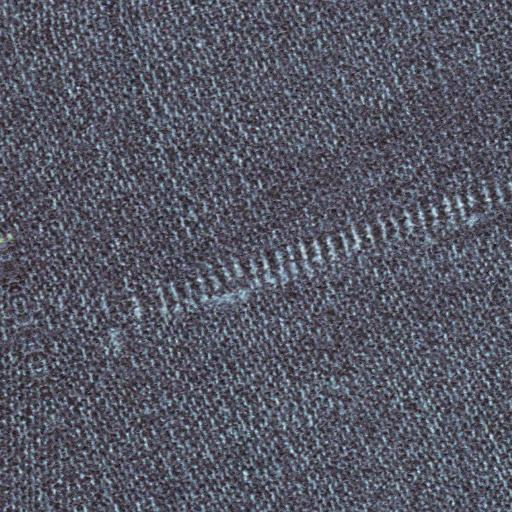slub: (131, 170, 512, 335)
